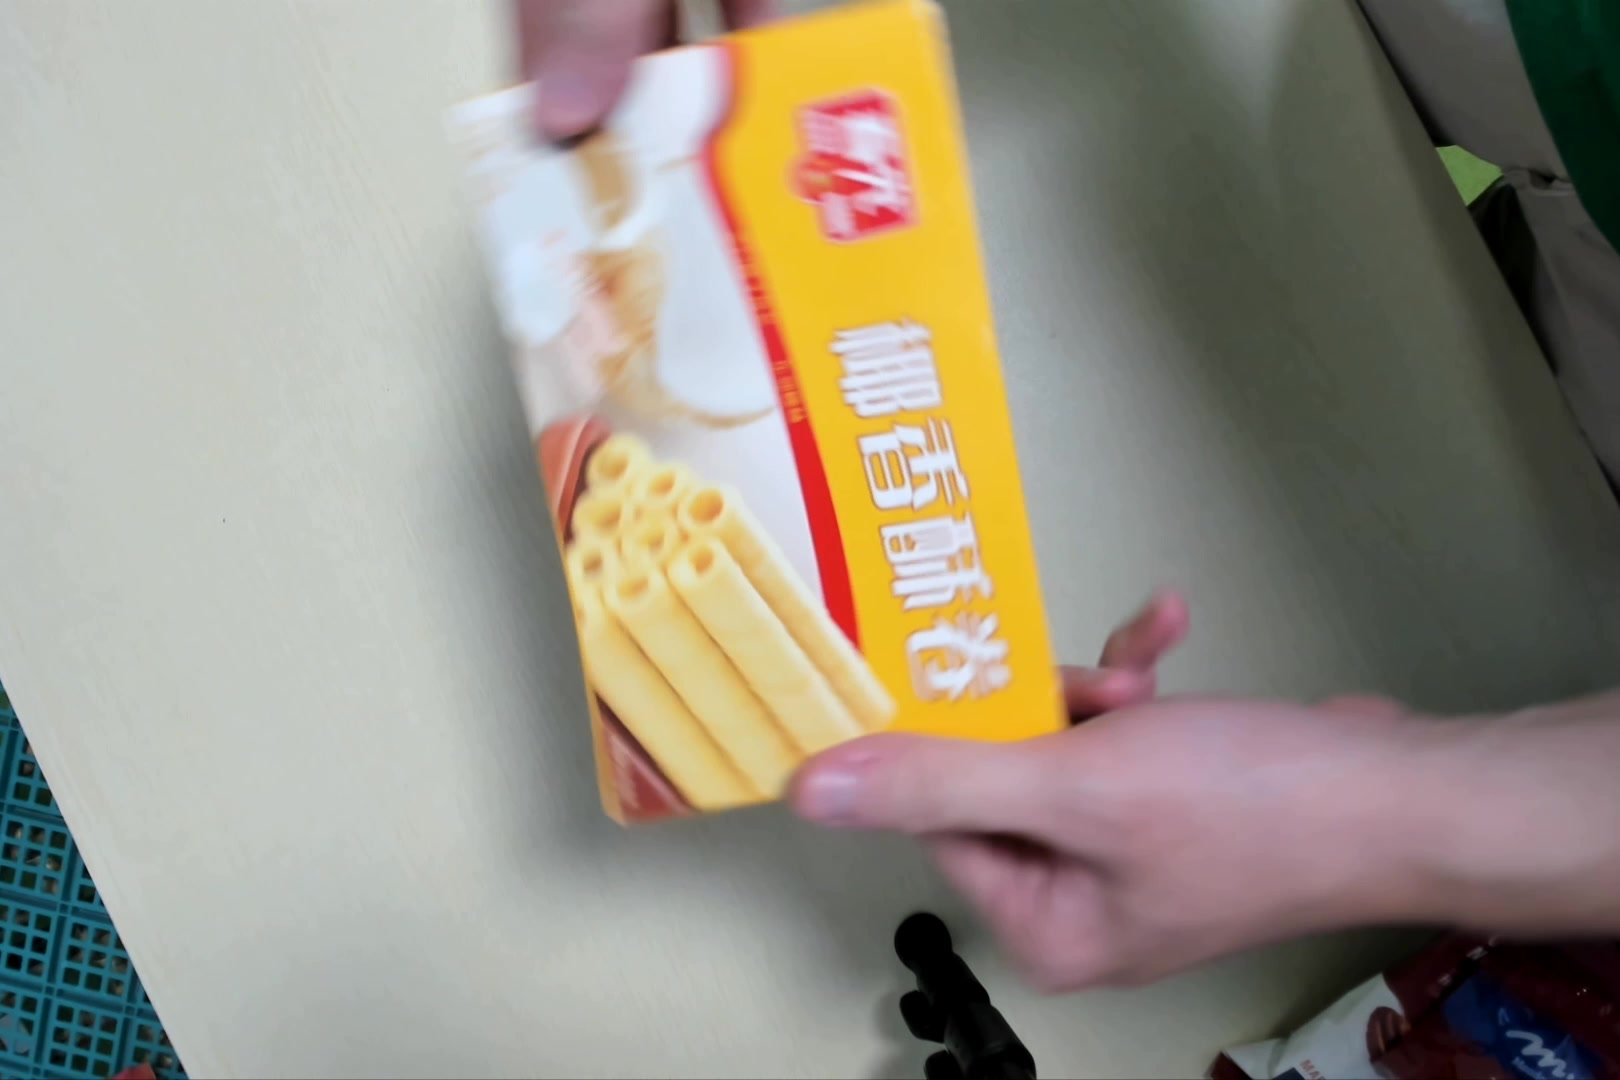BiscuitsCrackersCookies_0-99g_NonHalal_NonHealthy: (446, 12, 1074, 818)
